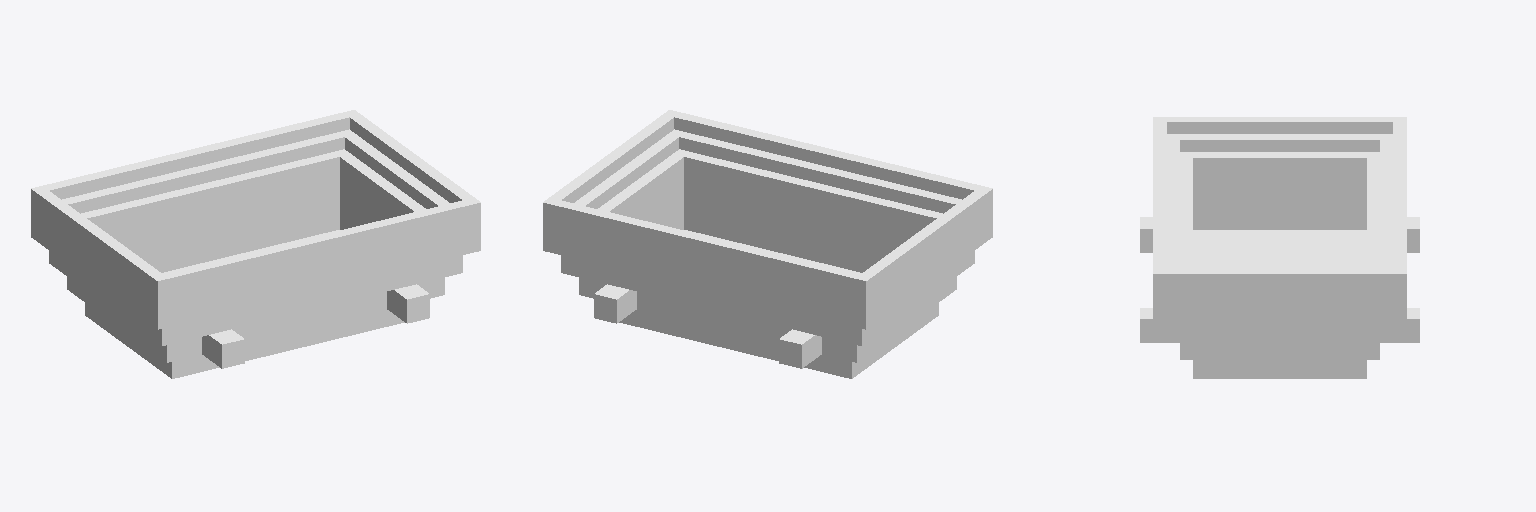
Rendered from carrinho_meio1.obj.
3 views of the same model, side by side, from view 1: azimuth 30°, elevation 25°; view 2: azimuth 150°, elevation 25°; view 3: azimuth 270°, elevation 25° (orthographic).
Visible parts, largest first — view 1: carrinho_meio1; view 2: carrinho_meio1; view 3: carrinho_meio1.
Boxes of the visible parts, <box> form: carrinho_meio1: <box>31,110,480,378</box>; carrinho_meio1: <box>543,110,992,378</box>; carrinho_meio1: <box>1140,117,1419,378</box>.
Bounding box in the file's own units: 28 × 10 × 21.